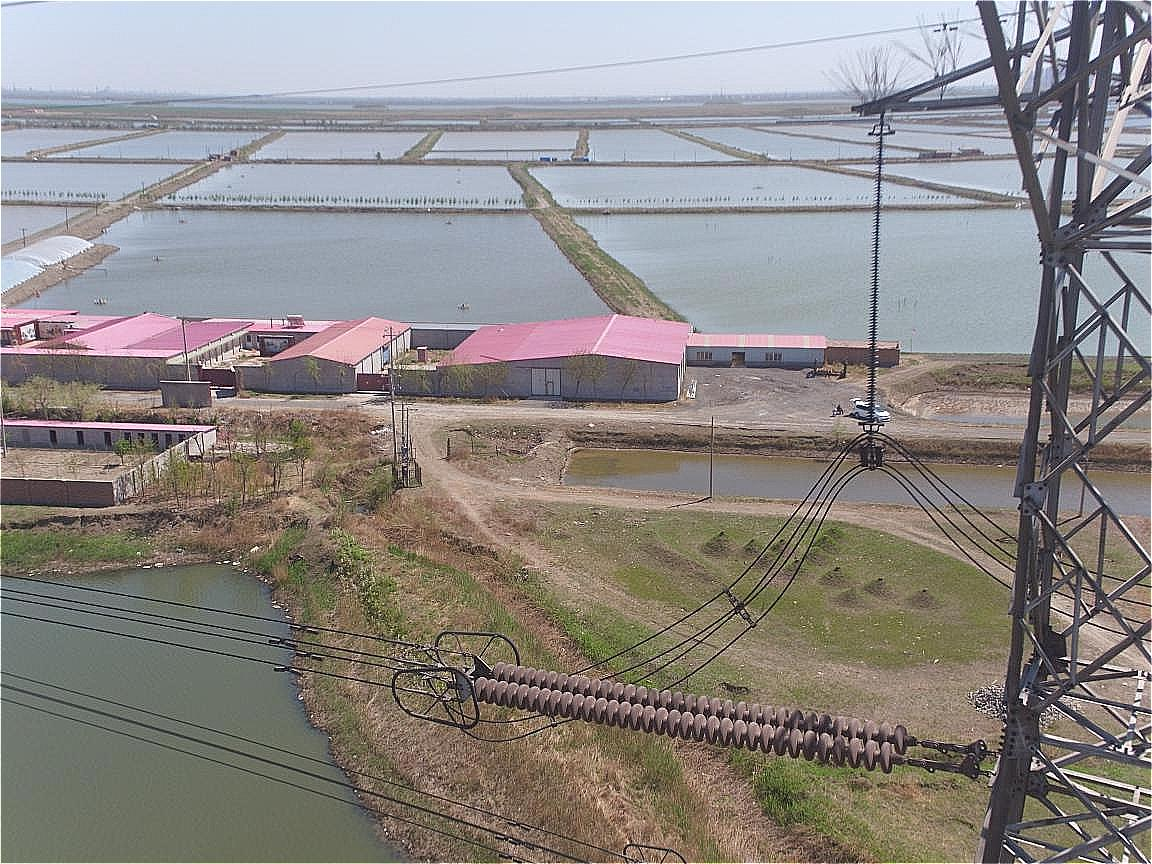insultor1: (472, 641, 935, 784)
